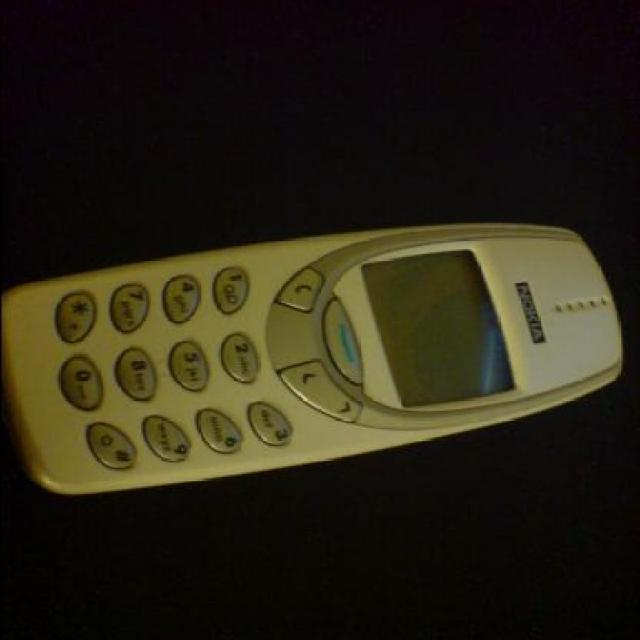phone: (10, 212, 628, 506)
